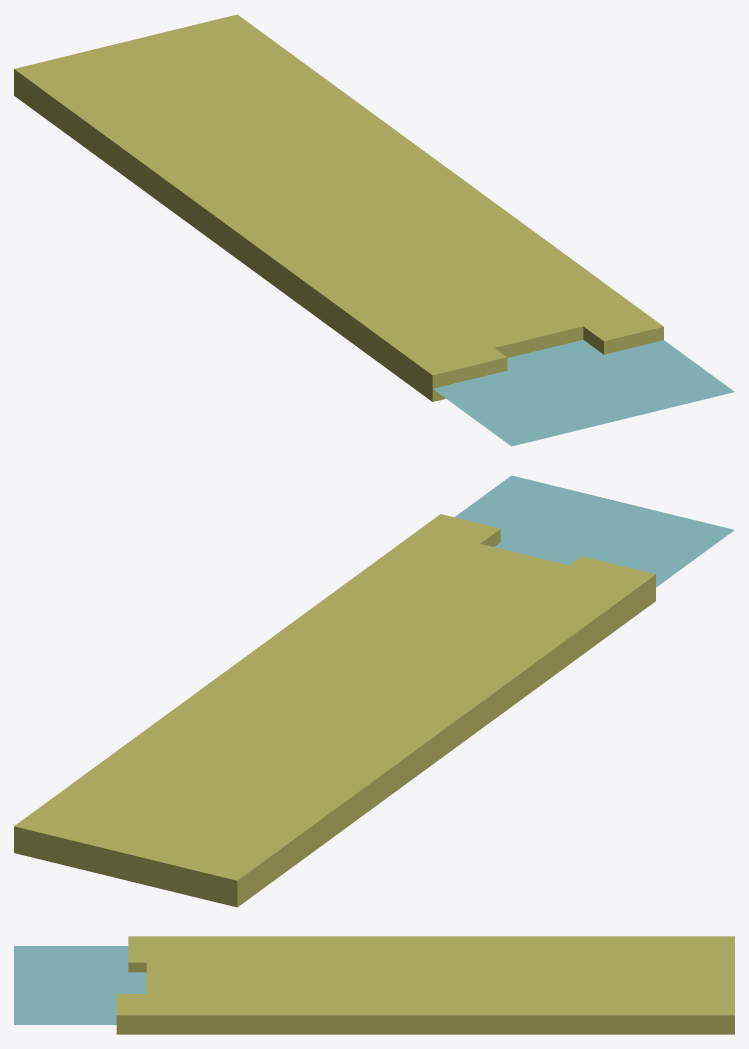
Rendered from Tile_Beach_04.fbx.
3 views of the same model, one above another, from view 1: azimuth 30°, elevation 25°; view 2: azimuth 150°, elevation 25°; view 3: azimuth 270°, elevation 25° (orthographic). The views are drawn at different scales.
Parts seen in each view (by area): view 1: Strand_04, Water4; view 2: Strand_04, Water4; view 3: Strand_04, Water4.
Boxes of the visible parts, box(x1,y1,x2,y2) form: Strand_04: box(14, 14, 663, 401); Water4: box(433, 340, 734, 446); Strand_04: box(14, 514, 655, 907); Water4: box(455, 475, 734, 587); Strand_04: box(116, 936, 734, 1034); Water4: box(14, 946, 146, 1024).
Size of the model in its own units: 35 by 4 by 135.
